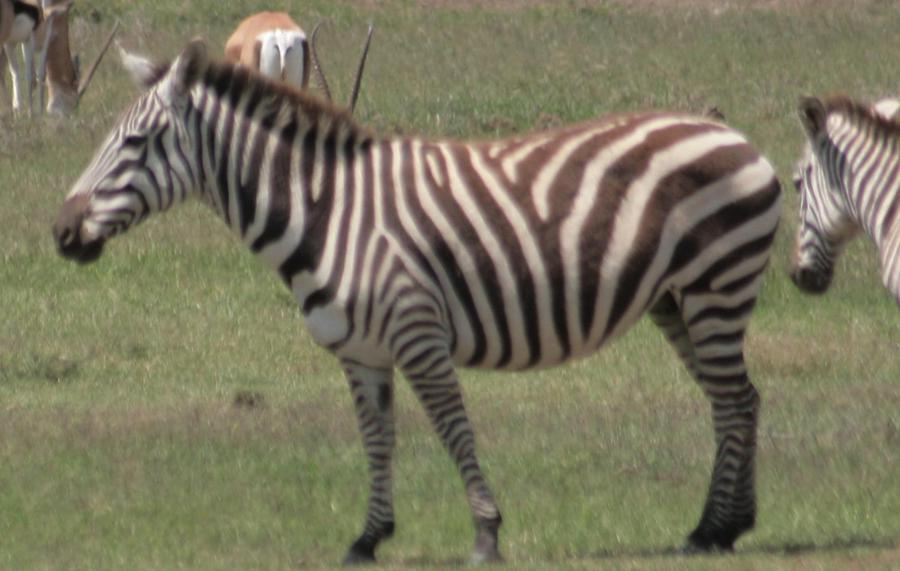zebra_plains: (306, 86, 807, 390)
